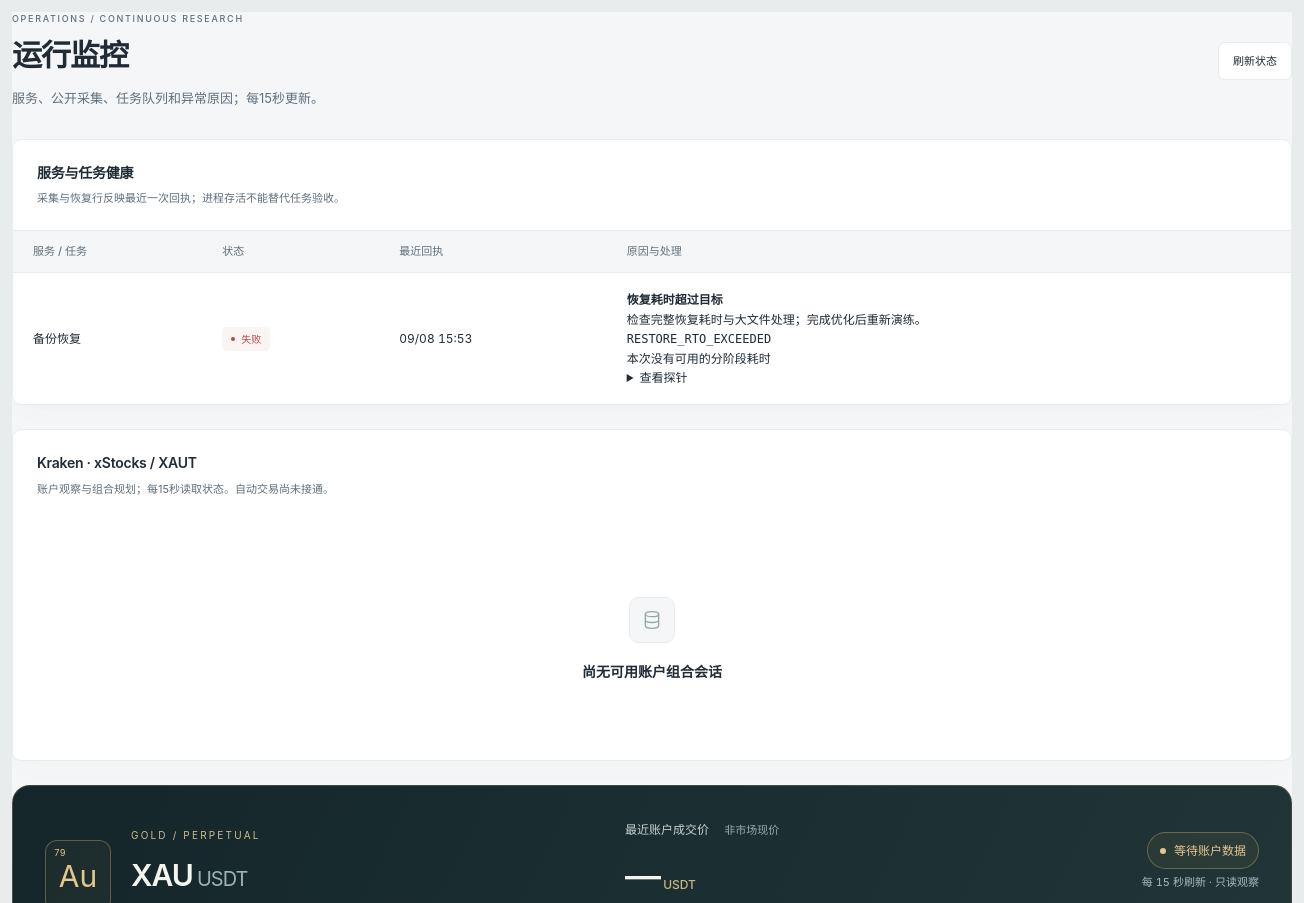
Test: operational receipts › shows failure reasons and removes old success content when refresh fails
Expected: the text "备份恢复" is shown, [13,273,202,404]
Expected: the text "恢复耗时超过目标" is shown, [627,292,723,307]
Step 1. Click the button "刷新状态" → (1255, 61), box [1218,42,1292,80]
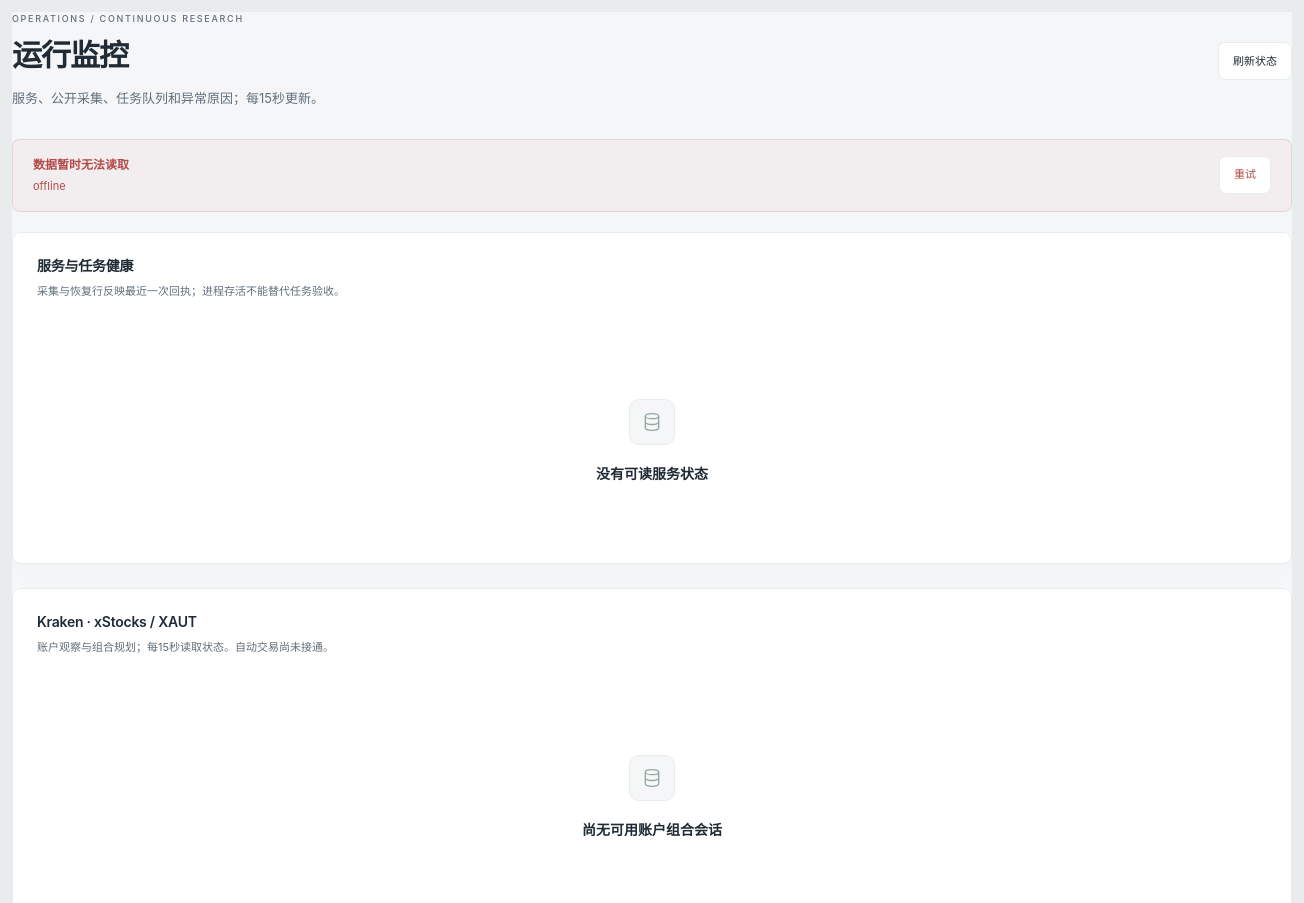
Expected: the text "offline" is shown, [33,179,66,193]
Expected: the text "RESTORE_RTO_EXCEEDED" is gone
